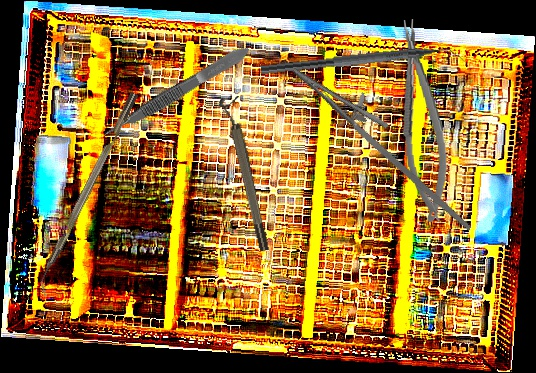Chopper: (30, 91, 149, 298), (260, 40, 466, 89)
Fixation Ring: (217, 95, 273, 254)
Needle Holder: (274, 52, 500, 232), (392, 17, 454, 224)
Tissue Forceps: (98, 42, 253, 142)
